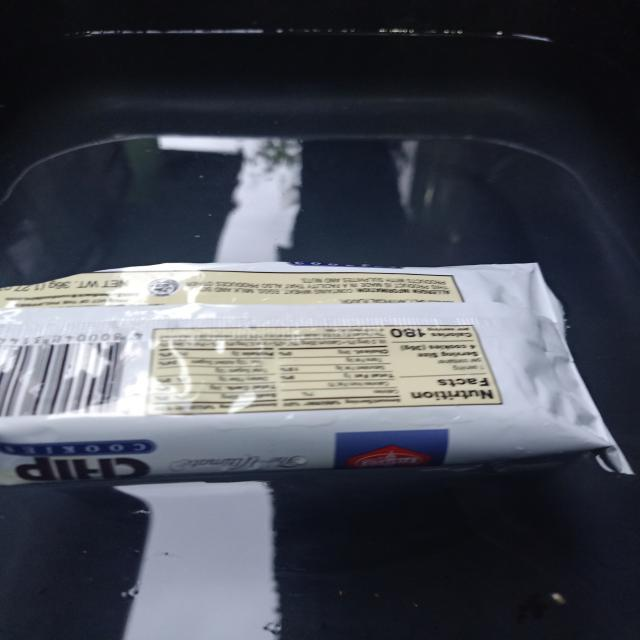Plastic Wrapper: (0, 262, 629, 484)
